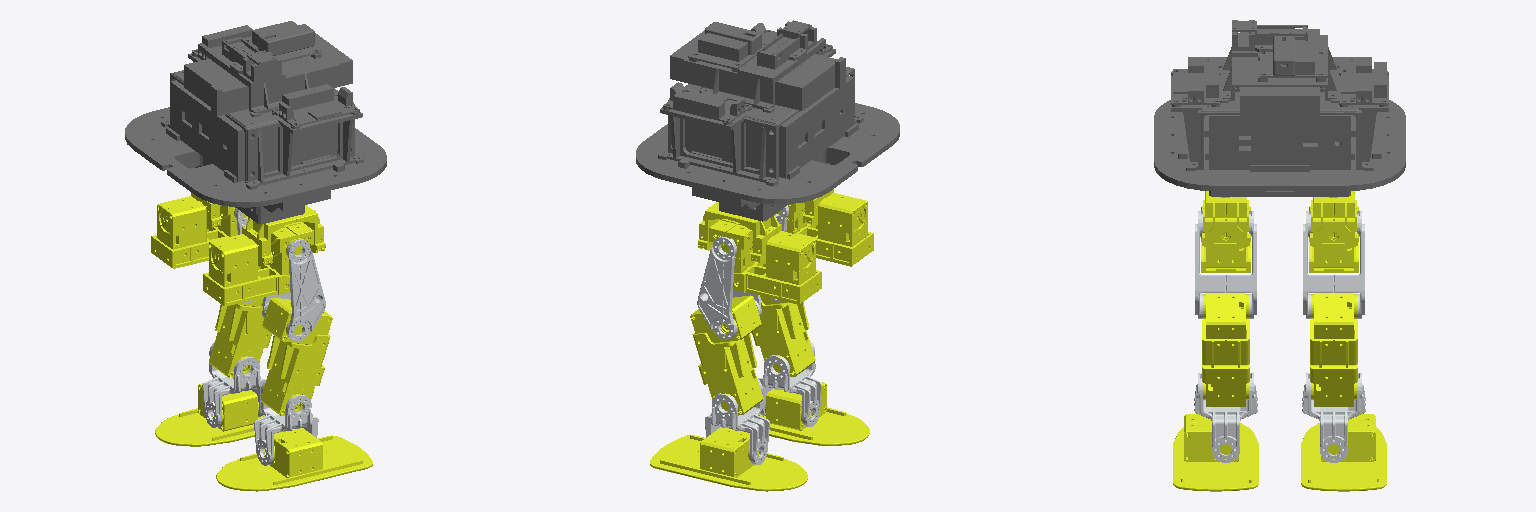
URDF robot description (exhx5_w_b_16):
<?xml version="1.0" encoding="utf-8"?>
<!-- This URDF was automatically created by SolidWorks to URDF Exporter! Originally created by [author] ([email redacted]) 
     Commit Version: 1.5.1-0-g916b5db  Build Version: 1.5.7152.31018
     For more information, please see http://wiki.ros.org/sw_urdf_exporter -->
<robot
  name="exhx5_w_b_16">
  <link
    name="body_link">
    <inertial>
      <origin
        xyz="0.00043545 0.00025536 0.10071"
        rpy="0 0 0" />
      <mass
        value="1.8238" />
      <inertia
        ixx="0.0025905"
        ixy="-5.6852E-06"
        ixz="-1.3106E-05"
        iyy="0.0024595"
        iyz="-1.261E-06"
        izz="0.0046407" />
    </inertial>
    <visual>
      <origin
        xyz="0 0 0"
        rpy="0 0 0" />
      <geometry>
        <mesh
          filename="../meshes/body_link.STL" />
      </geometry>
      <material
        name="">
        <color
          rgba="0.49804 0.49804 0.49804 1" />
      </material>
    </visual>
    <collision>
      <origin
        xyz="0 0 0"
        rpy="0 0 0" />
      <geometry>
        <mesh
          filename="../meshes/body_link.STL" />
      </geometry>
    </collision>
  </link>

  <link
    name="imu_link">
    <inertial>
      <origin
        xyz="-0.008387 1.336E-17 -0.0069463"
        rpy="0 0 0" />
      <mass
        value="0.0062931" />
      <inertia
        ixx="3.2242E-07"
        ixy="3.3527E-22"
        ixz="-6.9193E-08"
        iyy="9.2229E-07"
        iyz="-8.0392E-22"
        izz="1.1018E-06" />
    </inertial>
    <visual>
      <origin
        xyz="0 0 0"
        rpy="0 0 0" />
      <geometry>
        <mesh
          filename="../meshes/imu_link.STL" />
      </geometry>
      <material
        name="">
        <color
          rgba="0.79216 0.81961 0.93333 1" />
      </material>
    </visual>
    <collision>
      <origin
        xyz="0 0 0"
        rpy="0 0 0" />
      <geometry>
        <mesh
          filename="../meshes/imu_link.STL" />
      </geometry>
    </collision>
  </link>
  <joint
    name="imu"
    type="fixed">
    <origin
      xyz="0 0 0.0492"
      rpy="0 0 0" />
    <parent
      link="body_link" />
    <child
      link="imu_link" />
    <axis
      xyz="0 0 0" />
    <limit
      lower="-3.14"
      upper="3.14"
      effort="4"
      velocity="4" />
  </joint>
  <link
    name="l_hip_g_link">
    <inertial>
      <origin
        xyz="-0.0043797 -8.6604E-08 0.011813"
        rpy="0 0 0" />
      <mass
        value="0.061008" />
      <inertia
        ixx="1.167E-05"
        ixy="7.1767E-11"
        ixz="9.1442E-09"
        iyy="2.2342E-05"
        iyz="2.5177E-11"
        izz="2.4892E-05" />
    </inertial>
    <visual>
      <origin
        xyz="0 0 0"
        rpy="0 0 0" />
      <geometry>
        <mesh
          filename="../meshes/l_hip_g_link.STL" />
      </geometry>
      <material
        name="">
        <color
          rgba="0.9451 1 0.18431 1" />
      </material>
    </visual>
    <collision>
      <origin
        xyz="0 0 0"
        rpy="0 0 0" />
      <geometry>
        <mesh
          filename="../meshes/l_hip_g_link.STL" />
      </geometry>
    </collision>
  </link>
  <joint
    name="l_hip_g"
    type="fixed">
    <origin
      xyz="0 0.045 0"
      rpy="0 0 0" />
    <parent
      link="body_link" />
    <child
      link="l_hip_g_link" />
    <axis
      xyz="0 0 0" />
  </joint>
  <link
    name="l_hip_roll_link">
    <inertial>
      <origin
        xyz="0.013831 0.00033457 0.025453"
        rpy="0 0 0" />
      <mass
        value="0.2969" />
      <inertia
        ixx="7.8136E-05"
        ixy="7.265E-07"
        ixz="-6.9809E-08"
        iyy="9.2183E-05"
        iyz="-5.6881E-11"
        izz="7.1034E-05" />
    </inertial>
    <visual>
      <origin
        xyz="0 0 0"
        rpy="0 0 0" />
      <geometry>
        <mesh
          filename="../meshes/l_hip_roll_link.STL" />
      </geometry>
      <material
        name="">
        <color
          rgba="0.9451 1 0.18431 1" />
      </material>
    </visual>
    <collision>
      <origin
        xyz="0 0 0"
        rpy="0 0 0" />
      <geometry>
        <mesh
          filename="../meshes/l_hip_roll_link.STL" />
      </geometry>
    </collision>
  </link>
  <joint
    name="l_hip_roll"
    type="revolute">
    <origin
      xyz="0 0 0"
      rpy="3.1416 1.5708 0" />
    <parent
      link="l_hip_g_link" />
    <child
      link="l_hip_roll_link" />
    <axis
      xyz="0 0 1" />
    <limit
      lower="-3.14"
      upper="3.14"
      effort="4"
      velocity="4" />
  </joint>
  <link
    name="l_hip_pitch_link">
    <inertial>
      <origin
        xyz="0.041225 -0.007321 -5.0713E-08"
        rpy="0 0 0" />
      <mass
        value="0.051592" />
      <inertia
        ixx="2.7959E-05"
        ixy="2.0752E-06"
        ixz="-8.0934E-11"
        iyy="4.8156E-05"
        iyz="3.6317E-11"
        izz="2.9604E-05" />
    </inertial>
    <visual>
      <origin
        xyz="0 0 0"
        rpy="0 0 0" />
      <geometry>
        <mesh
          filename="../meshes/l_hip_pitch_link.STL" />
      </geometry>
      <material
        name="">
        <color
          rgba="0.89804 0.91765 0.92941 1" />
      </material>
    </visual>
    <collision>
      <origin
        xyz="0 0 0"
        rpy="0 0 0" />
      <geometry>
        <mesh
          filename="../meshes/l_hip_pitch_link.STL" />
      </geometry>
    </collision>
  </link>
  <joint
    name="l_hip_pitch"
    type="revolute">
    <origin
      xyz="0 0 0"
      rpy="1.5708 0 0" />
    <parent
      link="l_hip_roll_link" />
    <child
      link="l_hip_pitch_link" />
    <axis
      xyz="0 0 1" />
    <limit
      lower="-3.14"
      upper="3.14"
      effort="4"
      velocity="4" />
  </joint>
  <link
    name="l_knee_link">
    <inertial>
      <origin
        xyz="0.033756 -0.0084189 -6.6115E-09"
        rpy="0 0 0" />
      <mass
        value="0.28878" />
      <inertia
        ixx="6.6724E-05"
        ixy="7.5004E-07"
        ixz="-8.4578E-07"
        iyy="6.5699E-05"
        iyz="4.1085E-07"
        izz="7.0381E-05" />
    </inertial>
    <visual>
      <origin
        xyz="0 0 0"
        rpy="0 0 0" />
      <geometry>
        <mesh
          filename="../meshes/l_knee_link.STL" />
      </geometry>
      <material
        name="">
        <color
          rgba="0.9451 1 0.18431 1" />
      </material>
    </visual>
    <collision>
      <origin
        xyz="0 0 0"
        rpy="0 0 0" />
      <geometry>
        <mesh
          filename="../meshes/l_knee_link.STL" />
      </geometry>
    </collision>
  </link>
  <joint
    name="l_knee"
    type="revolute">
    <origin
      xyz="0.075954 0 0"
      rpy="0 0 0" />
    <parent
      link="l_hip_pitch_link" />
    <child
      link="l_knee_link" />
    <axis
      xyz="0 0 1" />
    <limit
      lower="-3.14"
      upper="3.14"
      effort="4"
      velocity="4" />
  </joint>
  <link
    name="l_ank_pitch_link">
    <inertial>
      <origin
        xyz="0.022786 -7.3909E-09 -7.1981E-06"
        rpy="0 0 0" />
      <mass
        value="0.044772" />
      <inertia
        ixx="1.777E-05"
        ixy="8.555E-14"
        ixz="-3.3713E-09"
        iyy="1.7119E-05"
        iyz="1.7593E-11"
        izz="1.8661E-05" />
    </inertial>
    <visual>
      <origin
        xyz="0 0 0"
        rpy="0 0 0" />
      <geometry>
        <mesh
          filename="../meshes/l_ank_pitch_link.STL" />
      </geometry>
      <material
        name="">
        <color
          rgba="0.89804 0.91765 0.92941 1" />
      </material>
    </visual>
    <collision>
      <origin
        xyz="0 0 0"
        rpy="0 0 0" />
      <geometry>
        <mesh
          filename="../meshes/l_ank_pitch_link.STL" />
      </geometry>
    </collision>
  </link>
  <joint
    name="l_ank_pitch"
    type="revolute">
    <origin
      xyz="0.074602 0 0"
      rpy="3.1416 0 0" />
    <parent
      link="l_knee_link" />
    <child
      link="l_ank_pitch_link" />
    <axis
      xyz="0 0 1" />
    <limit
      lower="-3.14"
      upper="3.14"
      effort="4"
      velocity="4" />
  </joint>
  <link
    name="l_ank_roll_link">
    <inertial>
      <origin
        xyz="0.0047069 0.010728 0.0015299"
        rpy="0 0 0" />
      <mass
        value="0.16774" />
      <inertia
        ixx="0.00012039"
        ixy="-3.7428E-09"
        ixz="4.4069E-08"
        iyy="8.7735E-05"
        iyz="7.0469E-07"
        izz="4.7866E-05" />
    </inertial>
    <visual>
      <origin
        xyz="0 0 0"
        rpy="0 0 0" />
      <geometry>
        <mesh
          filename="../meshes/l_ank_roll_link.STL" />
      </geometry>
      <material
        name="">
        <color
          rgba="0.9451 1 0.18431 1" />
      </material>
    </visual>
    <collision>
      <origin
        xyz="0 0 0"
        rpy="0 0 0" />
      <geometry>
        <mesh
          filename="../meshes/l_ank_roll_link.STL" />
      </geometry>
    </collision>
  </link>
  <joint
    name="l_ank_roll"
    type="revolute">
    <origin
      xyz="0.0465 0 0"
      rpy="-1.5708 0 0" />
    <parent
      link="l_ank_pitch_link" />
    <child
      link="l_ank_roll_link" />
    <axis
      xyz="0 0 1" />
    <limit
      lower="-3.14"
      upper="3.14"
      effort="4"
      velocity="4" />
  </joint>
  <link
    name="r_hip_g_link">
    <inertial>
      <origin
        xyz="-0.0043797 -8.6604E-08 0.011813"
        rpy="0 0 0" />
      <mass
        value="0.061008" />
      <inertia
        ixx="1.167E-05"
        ixy="7.1767E-11"
        ixz="9.1442E-09"
        iyy="2.2342E-05"
        iyz="2.5177E-11"
        izz="2.4892E-05" />
    </inertial>
    <visual>
      <origin
        xyz="0 0 0"
        rpy="0 0 0" />
      <geometry>
        <mesh
          filename="../meshes/r_hip_g_link.STL" />
      </geometry>
      <material
        name="">
        <color
          rgba="0.9451 1 0.18431 1" />
      </material>
    </visual>
    <collision>
      <origin
        xyz="0 0 0"
        rpy="0 0 0" />
      <geometry>
        <mesh
          filename="../meshes/r_hip_g_link.STL" />
      </geometry>
    </collision>
  </link>
  <joint
    name="r_hip_g"
    type="fixed">
    <origin
      xyz="0 -.045 0"
      rpy="0 0 0" />
    <parent
      link="body_link" />
    <child
      link="r_hip_g_link" />
    <axis
      xyz="0 0 0" />
  </joint>
  <link
    name="r_hip_roll_link">
    <inertial>
      <origin
        xyz="0.013831 0.00033457 0.025453"
        rpy="0 0 0" />
      <mass
        value="0.2969" />
      <inertia
        ixx="7.8136E-05"
        ixy="7.265E-07"
        ixz="-6.9809E-08"
        iyy="9.2183E-05"
        iyz="-5.6881E-11"
        izz="7.1034E-05" />
    </inertial>
    <visual>
      <origin
        xyz="0 0 0"
        rpy="0 0 0" />
      <geometry>
        <mesh
          filename="../meshes/r_hip_roll_link.STL" />
      </geometry>
      <material
        name="">
        <color
          rgba="0.9451 1 0.18431 1" />
      </material>
    </visual>
    <collision>
      <origin
        xyz="0 0 0"
        rpy="0 0 0" />
      <geometry>
        <mesh
          filename="../meshes/r_hip_roll_link.STL" />
      </geometry>
    </collision>
  </link>
  <joint
    name="r_hip_roll"
    type="revolute">
    <origin
      xyz="0 0 0"
      rpy="3.1416 1.5708 0" />
    <parent
      link="r_hip_g_link" />
    <child
      link="r_hip_roll_link" />
    <axis
      xyz="0 0 1" />
    <limit
      lower="-3.14"
      upper="3.14"
      effort="4"
      velocity="4" />
  </joint>
  <link
    name="r_hip_pitch_link">
    <inertial>
      <origin
        xyz="0.041225 0.007321 5.0713E-08"
        rpy="0 0 0" />
      <mass
        value="0.051592" />
      <inertia
        ixx="2.7959E-05"
        ixy="-2.0752E-06"
        ixz="8.0934E-11"
        iyy="4.8156E-05"
        iyz="3.6317E-11"
        izz="2.9604E-05" />
    </inertial>
    <visual>
      <origin
        xyz="0 0 0"
        rpy="0 0 0" />
      <geometry>
        <mesh
          filename="../meshes/r_hip_pitch_link.STL" />
      </geometry>
      <material
        name="">
        <color
          rgba="0.89804 0.91765 0.92941 1" />
      </material>
    </visual>
    <collision>
      <origin
        xyz="0 0 0"
        rpy="0 0 0" />
      <geometry>
        <mesh
          filename="../meshes/r_hip_pitch_link.STL" />
      </geometry>
    </collision>
  </link>
  <joint
    name="r_hip_pitch"
    type="revolute">
    <origin
      xyz="0 0 0"
      rpy="-1.5708 0 0" />
    <parent
      link="r_hip_roll_link" />
    <child
      link="r_hip_pitch_link" />
    <axis
      xyz="0 0 1" />
    <limit
      lower="-3.14"
      upper="3.14"
      effort="4"
      velocity="4" />
  </joint>
  <link
    name="r_knee_link">
    <inertial>
      <origin
        xyz="0.033757 0.0084176 6.6115E-09"
        rpy="0 0 0" />
      <mass
        value="0.28878" />
      <inertia
        ixx="6.6724E-05"
        ixy="-7.5008E-07"
        ixz="8.458E-07"
        iyy="6.5699E-05"
        iyz="4.1081E-07"
        izz="7.0381E-05" />
    </inertial>
    <visual>
      <origin
        xyz="0 0 0"
        rpy="0 0 0" />
      <geometry>
        <mesh
          filename="../meshes/r_knee_link.STL" />
      </geometry>
      <material
        name="">
        <color
          rgba="0.9451 1 0.18431 1" />
      </material>
    </visual>
    <collision>
      <origin
        xyz="0 0 0"
        rpy="0 0 0" />
      <geometry>
        <mesh
          filename="../meshes/r_knee_link.STL" />
      </geometry>
    </collision>
  </link>
  <joint
    name="r_knee"
    type="revolute">
    <origin
      xyz="0.075954 0 0"
      rpy="0 0 0" />
    <parent
      link="r_hip_pitch_link" />
    <child
      link="r_knee_link" />
    <axis
      xyz="0 0 1" />
    <limit
      lower="-3.14"
      upper="3.14"
      effort="4"
      velocity="4" />
  </joint>
  <link
    name="r_ank_pitch_link">
    <inertial>
      <origin
        xyz="0.025786 -7.3887E-09 -7.1981E-06"
        rpy="0 0 0" />
      <mass
        value="0.044772" />
      <inertia
        ixx="1.777E-05"
        ixy="8.5434E-14"
        ixz="-3.3713E-09"
        iyy="1.7119E-05"
        iyz="1.7592E-11"
        izz="1.8661E-05" />
    </inertial>
    <visual>
      <origin
        xyz="0 0 0"
        rpy="0 0 0" />
      <geometry>
        <mesh
          filename="../meshes/r_ank_pitch_link.STL" />
      </geometry>
      <material
        name="">
        <color
          rgba="0.89804 0.91765 0.92941 1" />
      </material>
    </visual>
    <collision>
      <origin
        xyz="0 0 0"
        rpy="0 0 0" />
      <geometry>
        <mesh
          filename="../meshes/r_ank_pitch_link.STL" />
      </geometry>
    </collision>
  </link>
  <joint
    name="r_ank_pitch"
    type="revolute">
    <origin
      xyz="0.071602 0 0"
      rpy="3.1416 0 0" />
    <parent
      link="r_knee_link" />
    <child
      link="r_ank_pitch_link" />
    <axis
      xyz="0 0 1" />
    <limit
      lower="-3.14"
      upper="3.14"
      effort="4"
      velocity="4" />
  </joint>
  <link
    name="r_ank_roll_link">
    <inertial>
      <origin
        xyz="0.0077069 -0.010728 0.0015299"
        rpy="0 0 0" />
      <mass
        value="0.16774" />
      <inertia
        ixx="0.00012039"
        ixy="3.743E-09"
        ixz="4.407E-08"
        iyy="8.7735E-05"
        iyz="-7.0467E-07"
        izz="4.7866E-05" />
    </inertial>
    <visual>
      <origin
        xyz="0 0 0"
        rpy="0 0 0" />
      <geometry>
        <mesh
          filename="../meshes/r_ank_roll_link.STL" />
      </geometry>
      <material
        name="">
        <color
          rgba="0.9451 1 0.18431 1" />
      </material>
    </visual>
    <collision>
      <origin
        xyz="0 0 0"
        rpy="0 0 0" />
      <geometry>
        <mesh
          filename="../meshes/r_ank_roll_link.STL" />
      </geometry>
    </collision>
  </link>
  <joint
    name="r_ank_roll"
    type="revolute">
    <origin
      xyz="0.0465 0 0"
      rpy="1.5708 0 0" />
    <parent
      link="r_ank_pitch_link" />
    <child
      link="r_ank_roll_link" />
    <axis
      xyz="0 0 1" />
    <limit
      lower="-3.14"
      upper="3.14"
      effort="4"
      velocity="4" />
  </joint>
  <transmission name="r_hip_roll_tran">
    <type>transmission_interface/SimpleTransmission</type>
    <joint name="r_hip_roll">
      <hardwareInterface>hardware_interface/EffortJointInterface</hardwareInterface>
    </joint>
    <actuator name="r_hip_roll_motor">
      <hardwareInterface>hardware_interface/EffortJointInterface</hardwareInterface>
      <mechanicalReduction>1</mechanicalReduction>
    </actuator>
  </transmission>
  <transmission name="r_hip_pitch_tran">
    <type>transmission_interface/SimpleTransmission</type>
    <joint name="r_hip_pitch">
      <hardwareInterface>hardware_interface/EffortJointInterface</hardwareInterface>
    </joint>
    <actuator name="r_hip_pitch_motor">
      <hardwareInterface>hardware_interface/EffortJointInterface</hardwareInterface>
      <mechanicalReduction>1</mechanicalReduction>
    </actuator>
  </transmission>
  <transmission name="r_knee_tran">
    <type>transmission_interface/SimpleTransmission</type>
    <joint name="r_knee">
      <hardwareInterface>hardware_interface/EffortJointInterface</hardwareInterface>
    </joint>
    <actuator name="r_knee_motor">
      <hardwareInterface>hardware_interface/EffortJointInterface</hardwareInterface>
      <mechanicalReduction>1</mechanicalReduction>
    </actuator>
  </transmission>
  <transmission name="r_ank_pitch_tran">
    <type>transmission_interface/SimpleTransmission</type>
    <joint name="r_ank_pitch">
      <hardwareInterface>hardware_interface/EffortJointInterface</hardwareInterface>
    </joint>
    <actuator name="r_ank_pitch_motor">
      <hardwareInterface>hardware_interface/EffortJointInterface</hardwareInterface>
      <mechanicalReduction>1</mechanicalReduction>
    </actuator>
  </transmission>
  <transmission name="r_ank_roll_tran">
    <type>transmission_interface/SimpleTransmission</type>
    <joint name="r_ank_roll">
      <hardwareInterface>hardware_interface/EffortJointInterface</hardwareInterface>
    </joint>
    <actuator name="r_ank_roll_motor">
      <hardwareInterface>hardware_interface/EffortJointInterface</hardwareInterface>
      <mechanicalReduction>1</mechanicalReduction>
    </actuator>
  </transmission>
  <transmission name="l_hip_roll_tran">
    <type>transmission_interface/SimpleTransmission</type>
    <joint name="l_hip_roll">
      <hardwareInterface>hardware_interface/EffortJointInterface</hardwareInterface>
    </joint>
    <actuator name="l_hip_roll_motor">
      <hardwareInterface>hardware_interface/EffortJointInterface</hardwareInterface>
      <mechanicalReduction>1</mechanicalReduction>
    </actuator>
  </transmission>
  <transmission name="l_hip_pitch_tran">
    <type>transmission_interface/SimpleTransmission</type>
    <joint name="l_hip_pitch">
      <hardwareInterface>hardware_interface/EffortJointInterface</hardwareInterface>
    </joint>
    <actuator name="l_hip_pitch_motor">
      <hardwareInterface>hardware_interface/EffortJointInterface</hardwareInterface>
      <mechanicalReduction>1</mechanicalReduction>
    </actuator>
  </transmission>
  <transmission name="l_knee_tran">
    <type>transmission_interface/SimpleTransmission</type>
    <joint name="l_knee">
      <hardwareInterface>hardware_interface/EffortJointInterface</hardwareInterface>
    </joint>
    <actuator name="l_knee_motor">
      <hardwareInterface>hardware_interface/EffortJointInterface</hardwareInterface>
      <mechanicalReduction>1</mechanicalReduction>
    </actuator>
  </transmission>
  <transmission name="l_ank_pitch_tran">
    <type>transmission_interface/SimpleTransmission</type>
    <joint name="l_ank_pitch">
      <hardwareInterface>hardware_interface/EffortJointInterface</hardwareInterface>
    </joint>
    <actuator name="l_ank_pitch_motor">
      <hardwareInterface>hardware_interface/EffortJointInterface</hardwareInterface>
      <mechanicalReduction>1</mechanicalReduction>
    </actuator>
  </transmission>
  <transmission name="l_ank_roll_tran">
    <type>transmission_interface/SimpleTransmission</type>
    <joint name="l_ank_roll">
      <hardwareInterface>hardware_interface/EffortJointInterface</hardwareInterface>
    </joint>
    <actuator name="l_ank_roll_motor">
      <hardwareInterface>hardware_interface/EffortJointInterface</hardwareInterface>
      <mechanicalReduction>1</mechanicalReduction>
    </actuator>
  </transmission>
</robot>

--- Facts derived from the render (not from the file) ---
The picture shows the robot from 3 angles, left to right: view 1: azimuth 30°, elevation 25°; view 2: azimuth 150°, elevation 25°; view 3: azimuth 270°, elevation 25°; orthographic projection.
Robot: exhx5_w_b_16 — 14 links, 13 joints (10 revolute, 3 fixed); root link body_link; default pose: every joint at zero.
Links seen in each view (by area): view 1: body_link, r_ank_roll_link, r_hip_roll_link, r_knee_link, l_hip_roll_link, l_ank_roll_link, l_knee_link, r_hip_pitch_link, r_ank_pitch_link, l_ank_pitch_link, r_hip_g_link; view 2: body_link, l_ank_roll_link, l_hip_roll_link, l_knee_link, r_hip_roll_link, r_ank_roll_link, r_knee_link, l_hip_pitch_link, l_ank_pitch_link, r_ank_pitch_link, l_hip_g_link; view 3: body_link, l_knee_link, r_knee_link, l_ank_roll_link, r_ank_roll_link, l_hip_g_link, r_hip_g_link, l_ank_pitch_link, r_ank_pitch_link, l_hip_pitch_link, r_hip_pitch_link, l_hip_roll_link (+1 smaller).
Link boxes in pixels (x1,y1,x2,y2): body_link: (125,21,386,224); r_ank_roll_link: (216,428,372,491); r_hip_roll_link: (203,222,313,306); r_knee_link: (260,298,332,415); l_hip_roll_link: (151,196,247,268); l_ank_roll_link: (155,383,264,446); l_knee_link: (209,298,271,378); r_hip_pitch_link: (262,239,325,341); r_ank_pitch_link: (254,379,318,465); l_ank_pitch_link: (202,342,264,427); r_hip_g_link: (242,205,325,266); body_link: (636,20,899,221); l_ank_roll_link: (650,427,807,491); l_hip_roll_link: (709,219,821,304); l_knee_link: (690,295,763,415); r_hip_roll_link: (776,193,873,266); r_ank_roll_link: (759,382,869,445); r_knee_link: (752,296,815,376); l_hip_pitch_link: (697,236,761,339); l_ank_pitch_link: (705,378,769,464); r_ank_pitch_link: (758,341,821,426); l_hip_g_link: (698,202,781,263); body_link: (1154,20,1405,196); l_knee_link: (1310,293,1357,406); r_knee_link: (1202,293,1249,406); l_ank_roll_link: (1301,414,1386,491); r_ank_roll_link: (1173,414,1258,491); l_hip_g_link: (1309,191,1358,247); r_hip_g_link: (1201,191,1250,247); l_ank_pitch_link: (1302,373,1365,462); r_ank_pitch_link: (1194,373,1257,462); l_hip_pitch_link: (1303,211,1364,318); r_hip_pitch_link: (1195,211,1256,318); l_hip_roll_link: (1309,200,1358,272).
Size in the robot's own frame: 0.185 by 0.21 by 0.3893 metres.
Meshes: 14 distinct files referenced, 14 mesh visuals loaded (14 binary STL).